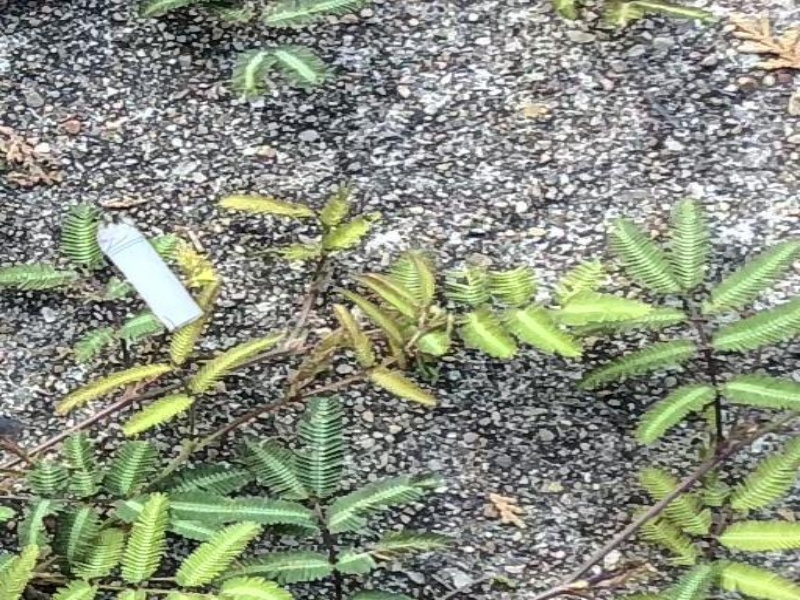cig: (86, 211, 212, 335)
